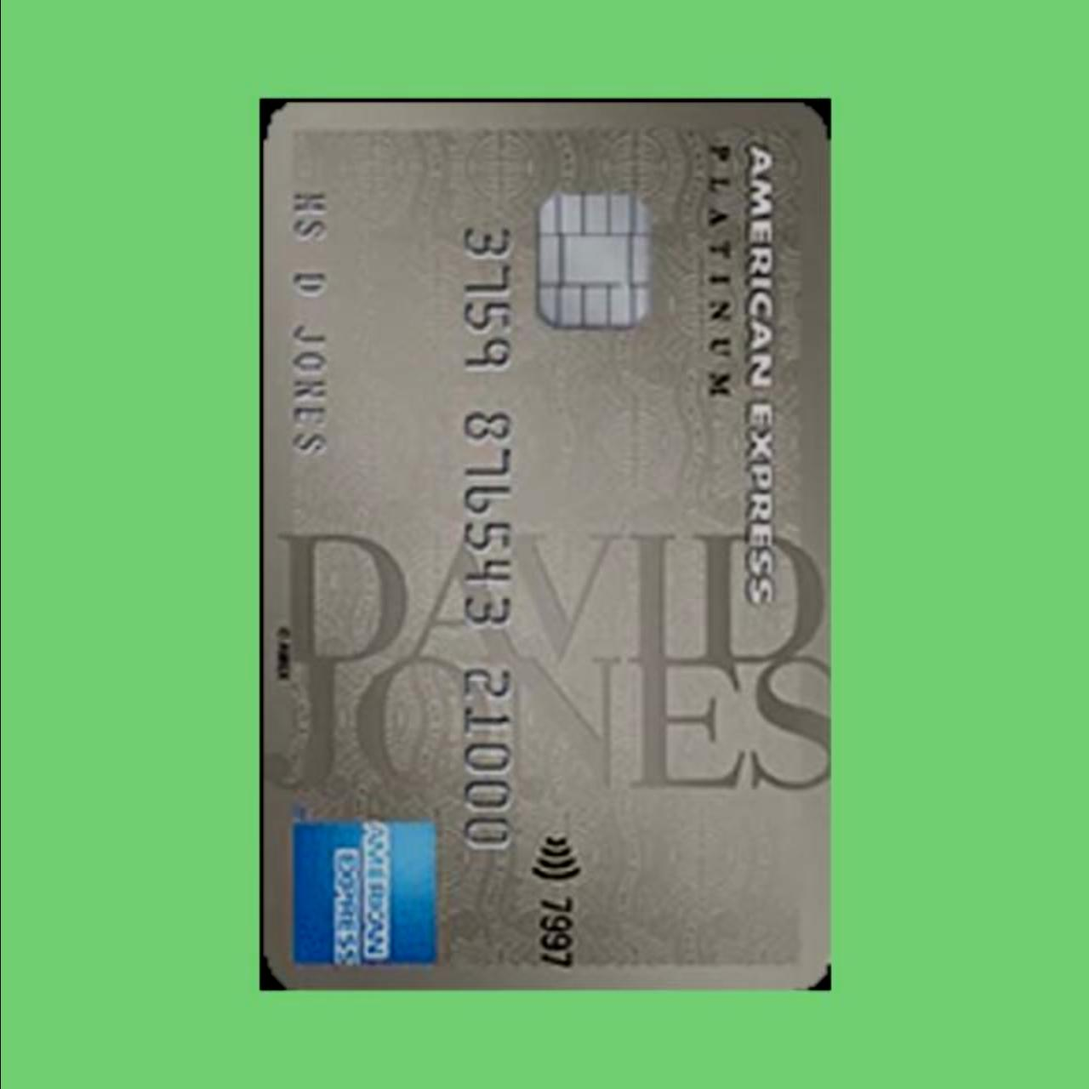credit_card: (265, 102, 824, 994)
